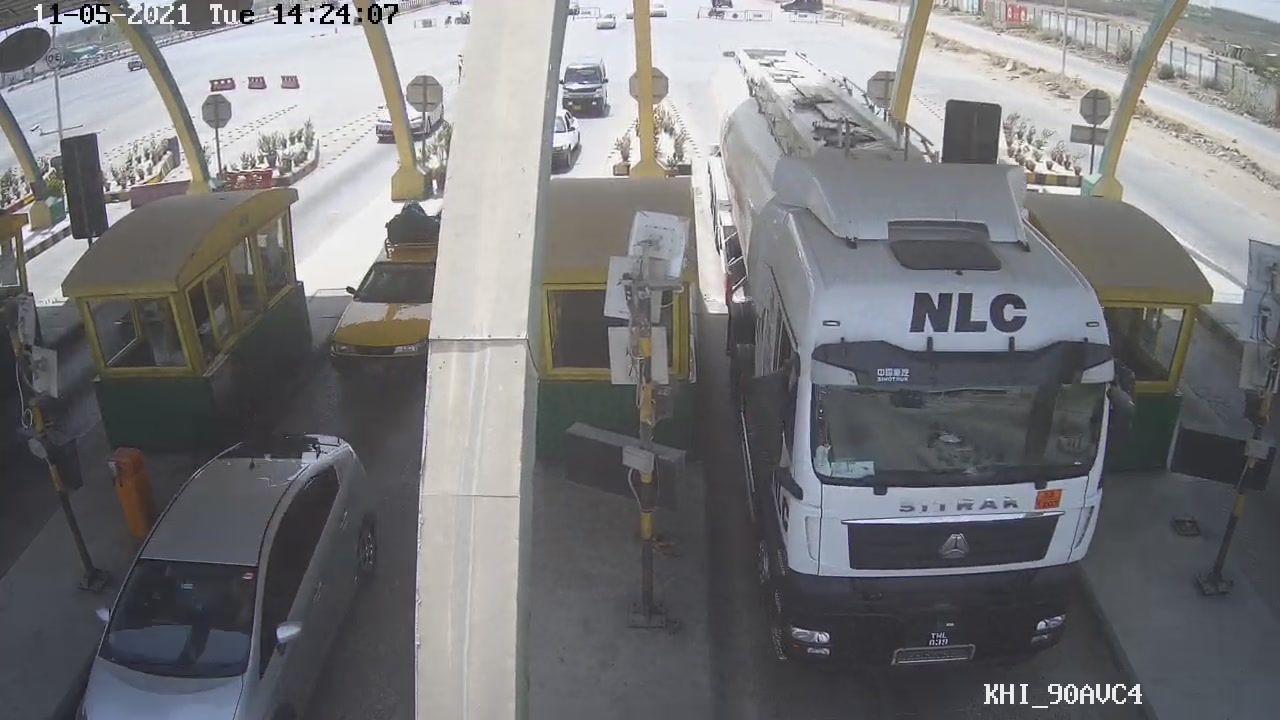F6: (708, 28, 1140, 667)
